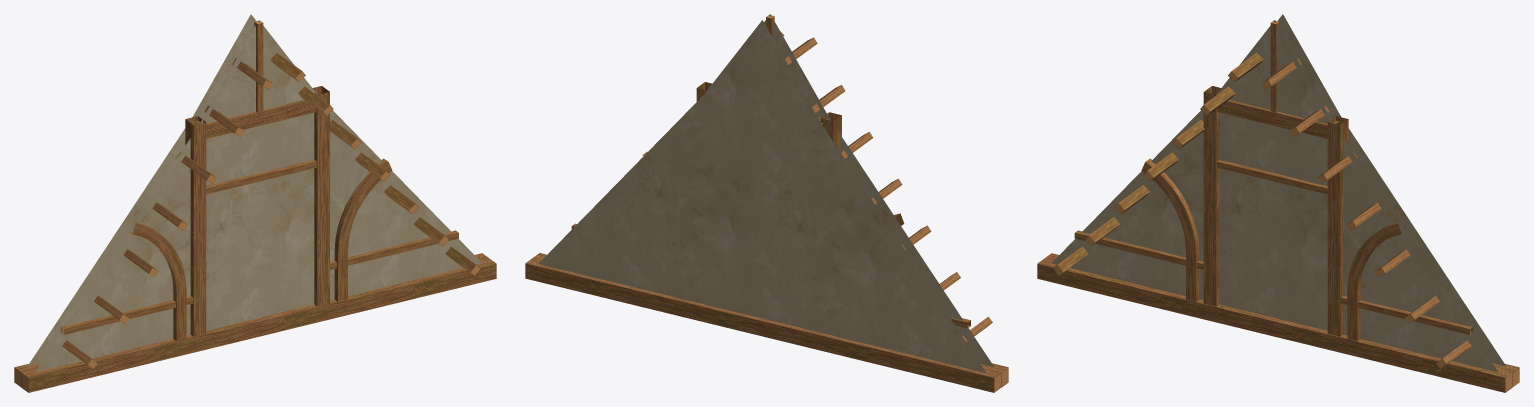
Rendered from Roof_Front_Brick8.gltf.
The picture shows the model from 3 angles, left to right: view 1: azimuth 30°, elevation 25°; view 2: azimuth 150°, elevation 25°; view 3: azimuth 330°, elevation 25°; orthographic projection.
Parts seen in each view (by area): view 1: Roof_Front_Brick8; view 2: Roof_Front_Brick8; view 3: Roof_Front_Brick8.
Part boxes in pixels (x1=…): Roof_Front_Brick8: x1=14, y1=14, x2=496, y2=392; Roof_Front_Brick8: x1=525, y1=14, x2=1008, y2=392; Roof_Front_Brick8: x1=1037, y1=14, x2=1519, y2=392.
Bounding box in the file's own units: 8.51 × 5.45 × 1.13.
Materials: 2 (2 with a texture image).
